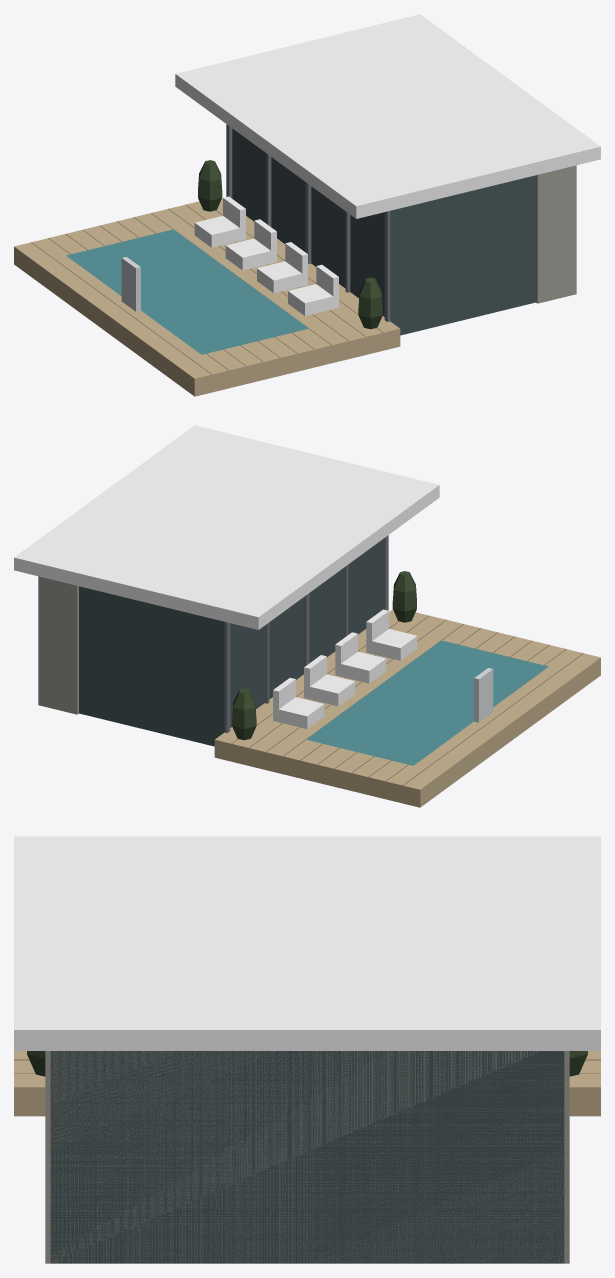
The model's file is roofprop_close.fbx.
3 renders of one model, top to bottom at view 1: azimuth 30°, elevation 25°; view 2: azimuth 150°, elevation 25°; view 3: azimuth 270°, elevation 25°, orthographic. The views are drawn at different scales.
Visible parts, largest first — view 1: a2019/0/roofprop_close; view 2: a2019/0/roofprop_close; view 3: a2019/0/roofprop_close.
Boxes of the visible parts, box(x1,y1,x2,y2) form: a2019/0/roofprop_close: box(14, 14, 600, 396); a2019/0/roofprop_close: box(14, 425, 600, 807); a2019/0/roofprop_close: box(14, 836, 600, 1263).
Size of the model in its own units: 8.3 by 2.95 by 6.4.
